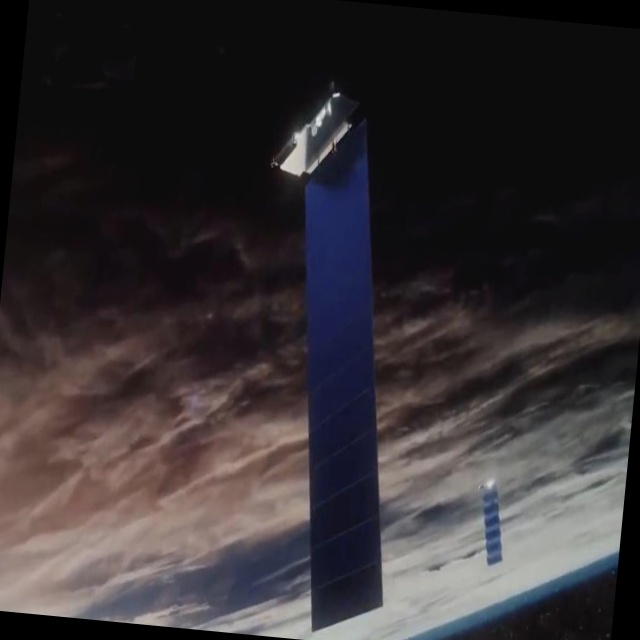medium_debris: (228, 77, 438, 640), (461, 455, 529, 584)
